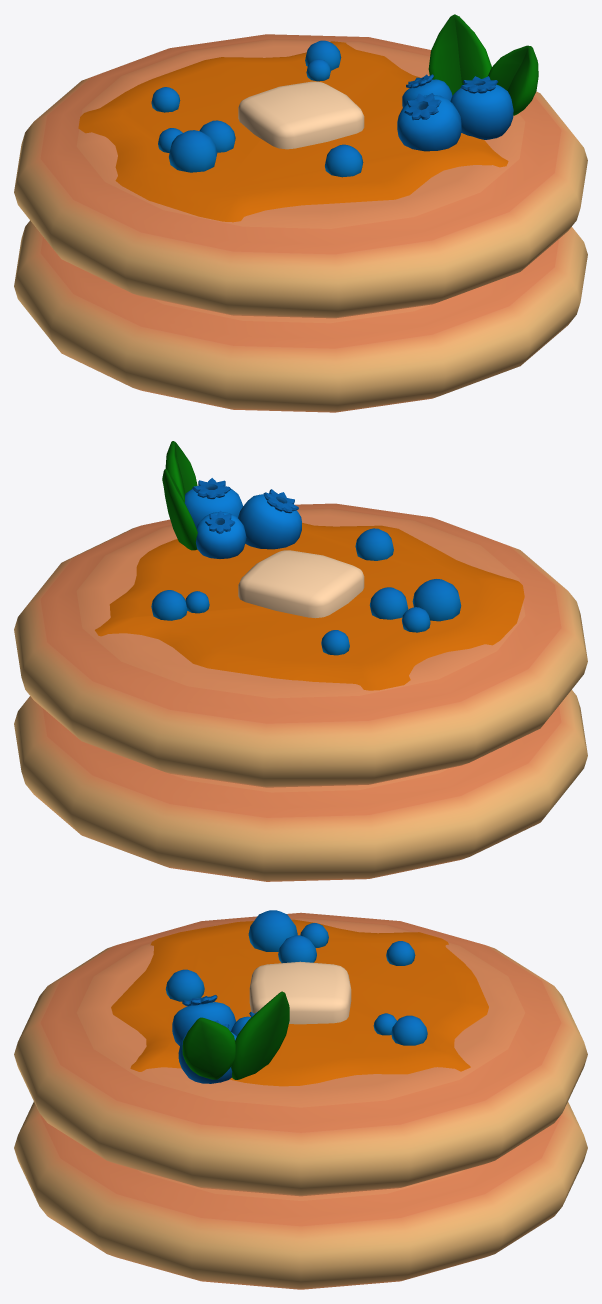
Rendered from Pancake_V1_02.fbx.
The picture shows the model from 3 angles, top to bottom: view 1: azimuth 30°, elevation 25°; view 2: azimuth 150°, elevation 25°; view 3: azimuth 270°, elevation 25°; orthographic projection.
Parts seen in each view (by area): view 1: Pancake_V1_02; view 2: Pancake_V1_02; view 3: Pancake_V1_02.
Part boxes in pixels (x1,y1,x2,y2): Pancake_V1_02: [14, 14, 587, 412]; Pancake_V1_02: [14, 441, 587, 881]; Pancake_V1_02: [14, 910, 587, 1289].
Size of the model in its own units: 64.15 by 33.65 by 64.15.
